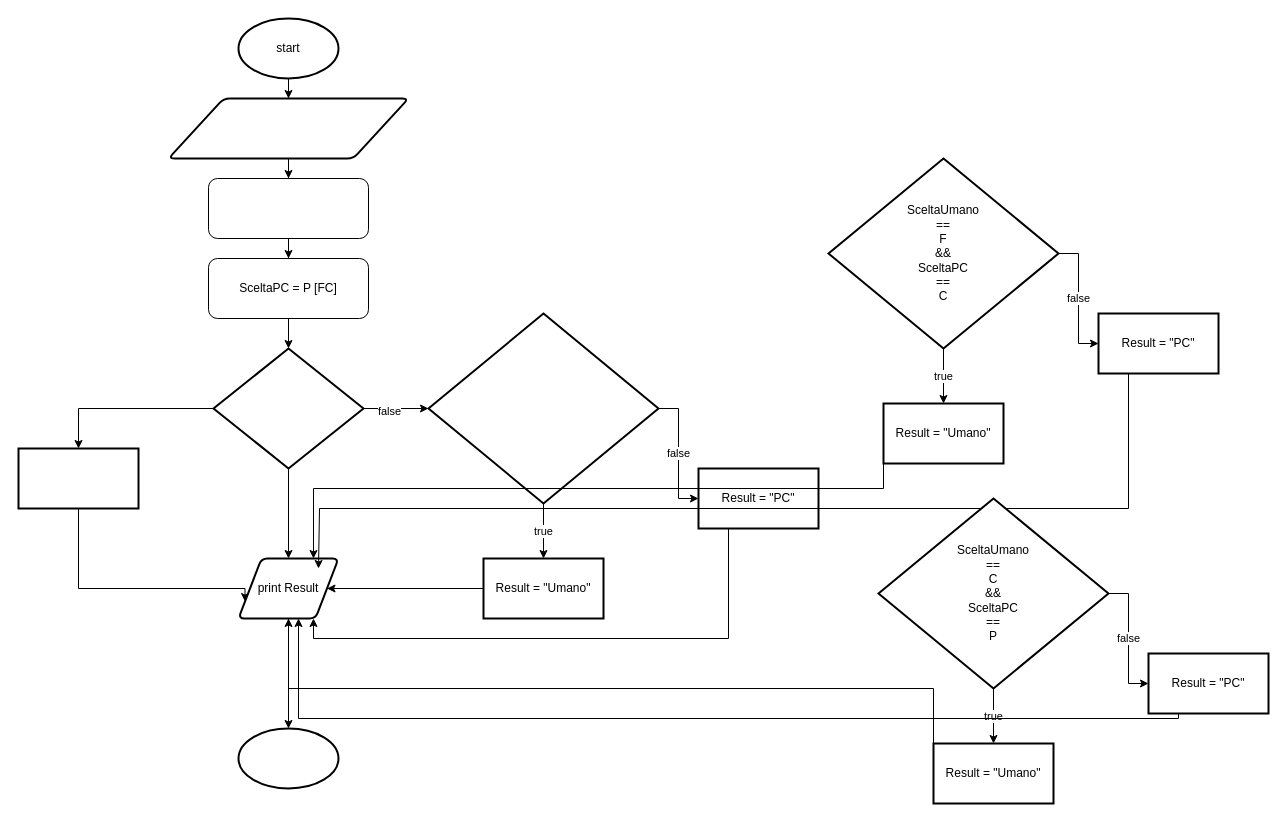
Some shapes in this 1286 by 821 pixel diagram are drawn without their labels. Here are the shapes that lost their labels. From the top down, the centre of each, then its label:
pixel 288 128: Scegli P, F, C
pixel 288 208: SceltaUmano = P [FC]
pixel 288 408: SceltaUmano == SceltaPC
pixel 543 408: SceltaUmano == P && SceltaPC == F
pixel 78 478: Result = "Pareggio
pixel 288 758: end
